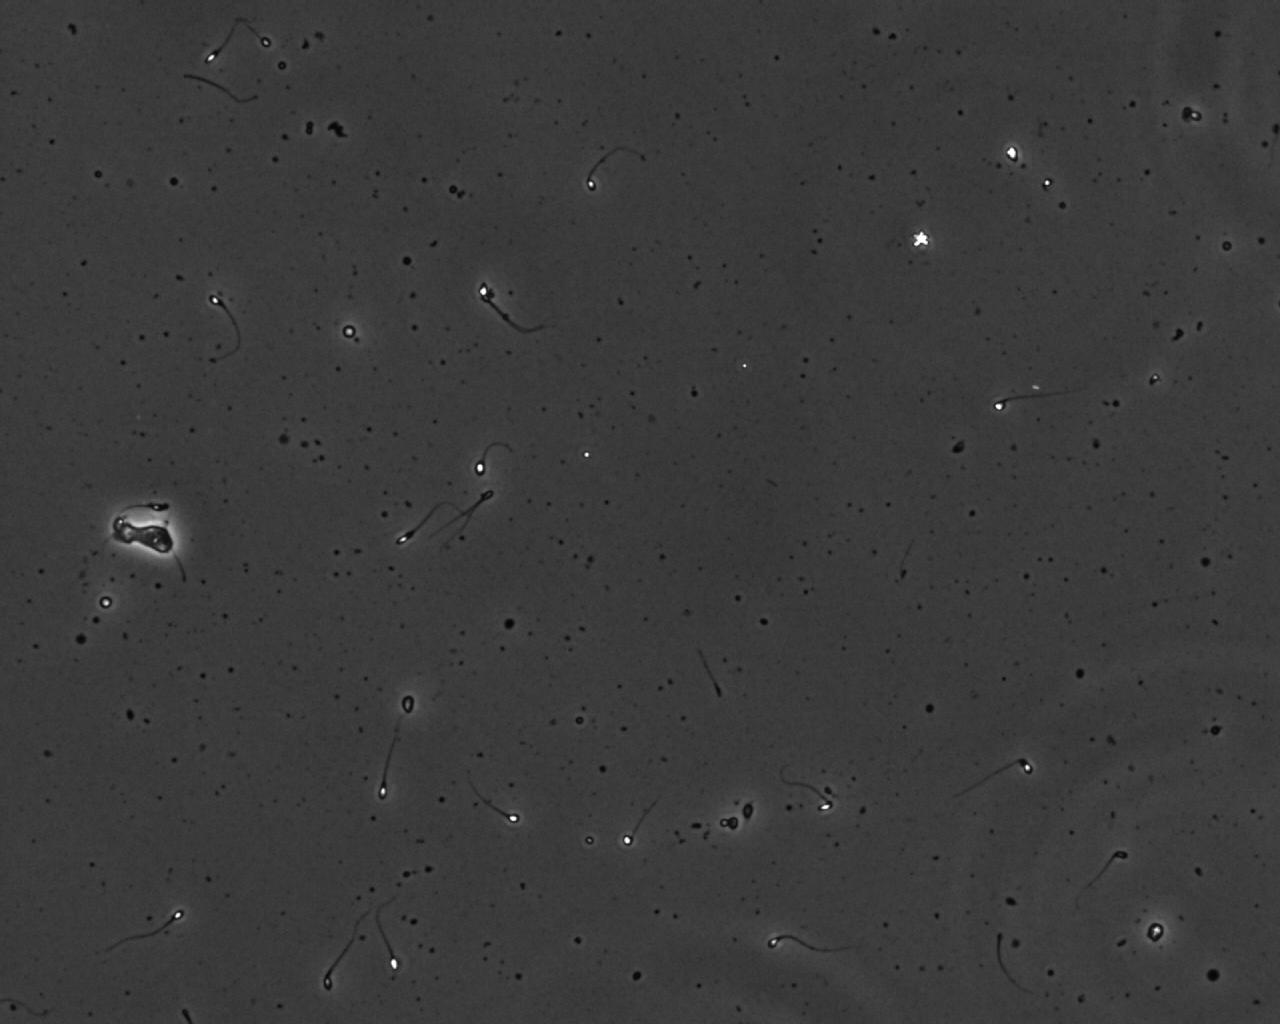cell: (140, 483, 189, 527), (104, 513, 154, 556), (323, 306, 360, 349), (139, 539, 171, 579), (88, 495, 123, 528), (77, 550, 108, 577), (353, 336, 381, 364), (344, 325, 369, 350), (1143, 920, 1167, 945), (90, 542, 118, 562)
